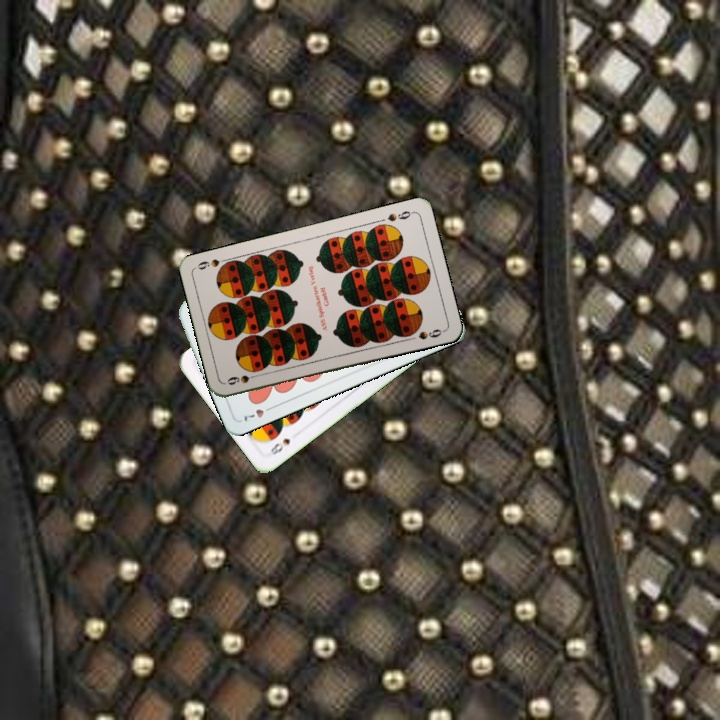H7: (238, 402, 277, 424)
S8: (266, 434, 293, 458)
S9: (223, 370, 263, 388), (383, 207, 416, 224)
